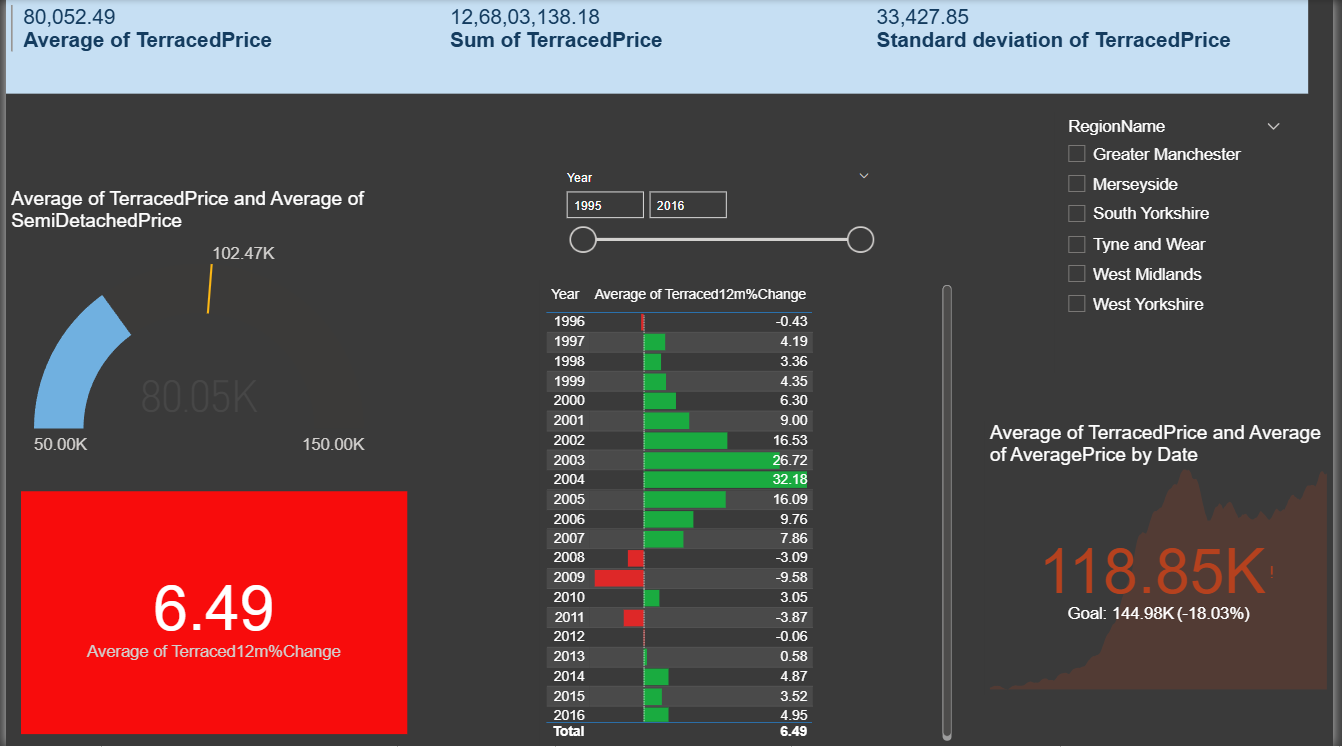

Layout of this report page (visuals, bound fields, positions):
{"tool":"powerbi","page":{"name":"Terraced Property Price Analysis","canvas":[1280,720],"ordinal":4},"visuals":[{"type":"gauge","fields":{"Y":["Avg(HPIAdmins.TerracedPrice)"],"TargetValue":["Avg(HPIAdmins.SemiDetachedPrice)"]},"box":[0,181,372.8,265.4],"z":0},{"type":"slicer","fields":{"Values":["HPIAdmins.RegionName"]},"box":[1012.2,108.6,230.4,265.4],"z":1000},{"type":"card","fields":{"Values":["Avg(HPIAdmins.Terraced12m%Change)"]},"box":[14.5,474.1,372.8,234],"z":2000},{"type":"multiRowCard","fields":{"Values":["Avg(HPIAdmins.TerracedPrice)","Sum(HPIAdmins.TerracedPrice)1","StandardDeviation(HPIAdmins.TerracedPrice)"]},"box":[0,0,1257.1,90.5],"z":3000},{"type":"slicer","fields":{"Values":["HPIAdmins.Date.Variation.Date Hierarchy.Year"]},"box":[528.4,159.3,317.3,111],"z":4000},{"type":"tableEx","fields":{"Values":["HPIAdmins.Date.Variation.Date Hierarchy.Year","Avg(HPIAdmins.Terraced12m%Change)"]},"box":[515.2,270.2,403,450],"z":5000},{"type":"kpi","fields":{"TrendLine":["HPIAdmins.Date"],"Goal":["Avg(HPIAdmins.AveragePrice)"],"Indicator":["Avg(HPIAdmins.TerracedPrice)"]},"box":[944.6,406.6,335.4,264.2],"z":6000}]}

Visuals, with their boxes in screenshot pixels (x1, y1, x2, y2), scaled from the page's 1280x720 canvas onto the 1342x747 screenshot:
gauge - Avg(HPIAdmins.TerracedPrice) x Avg(HPIAdmins.SemiDetachedPrice): <box>0,188,391,463</box>
slicer - HPIAdmins.RegionName: <box>1061,113,1303,388</box>
card - Avg(HPIAdmins.Terraced12m%Change): <box>15,492,406,735</box>
multiRowCard - Avg(HPIAdmins.TerracedPrice) x Sum(HPIAdmins.TerracedPrice)1: <box>0,0,1318,94</box>
slicer - HPIAdmins.Date.Variation.Date Hierarchy.Year: <box>554,165,887,280</box>
tableEx - HPIAdmins.Date.Variation.Date Hierarchy.Year x Avg(HPIAdmins.Terraced12m%Change): <box>540,280,963,746</box>
kpi - HPIAdmins.Date x Avg(HPIAdmins.AveragePrice): <box>990,422,1341,696</box>
